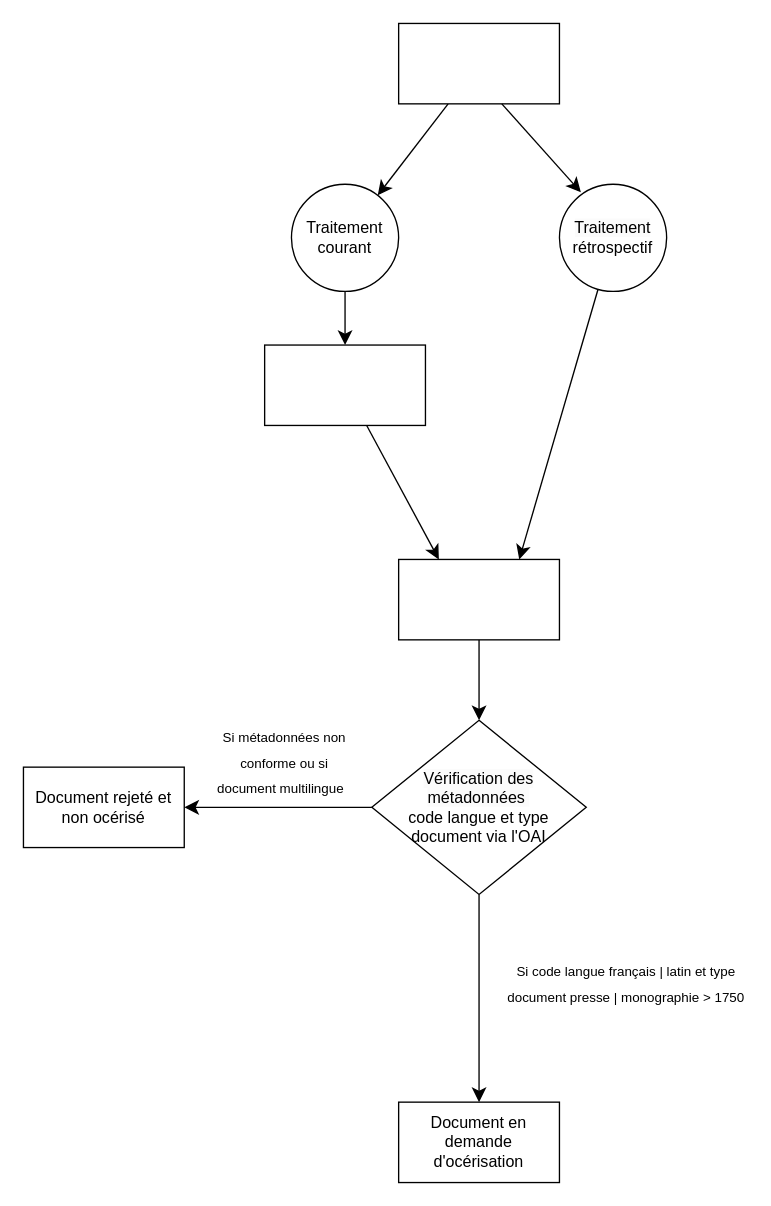
Image size: 771x1206. Some labels were removed from this diagram. Here are the shapes that lost their labels. From the top down, the box of each, then its label:
(397, 22, 559, 104): Regroupement & Sélection des documents
(263, 344, 425, 425): délai de 100 jours entre numérisation et océrisation
(397, 558, 559, 640): Enregistrement des documents dans la table dédiée aux document océrisables
